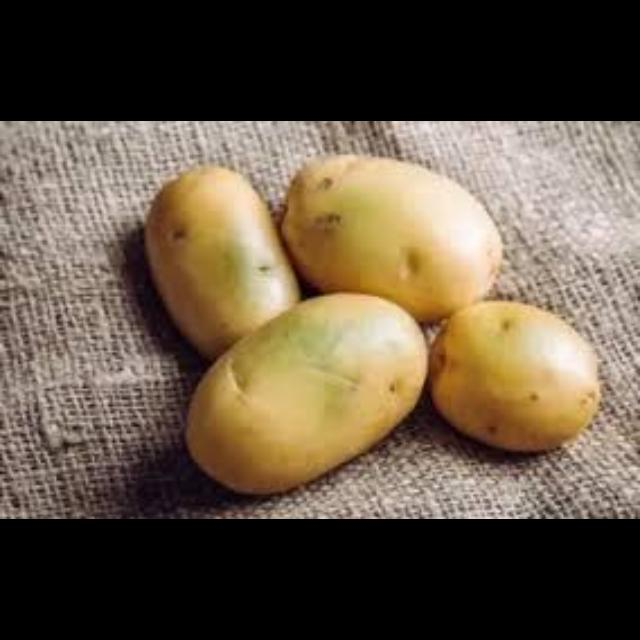Defected potato: (178, 292, 428, 502), (276, 150, 516, 322), (138, 157, 310, 370), (430, 302, 612, 458)
